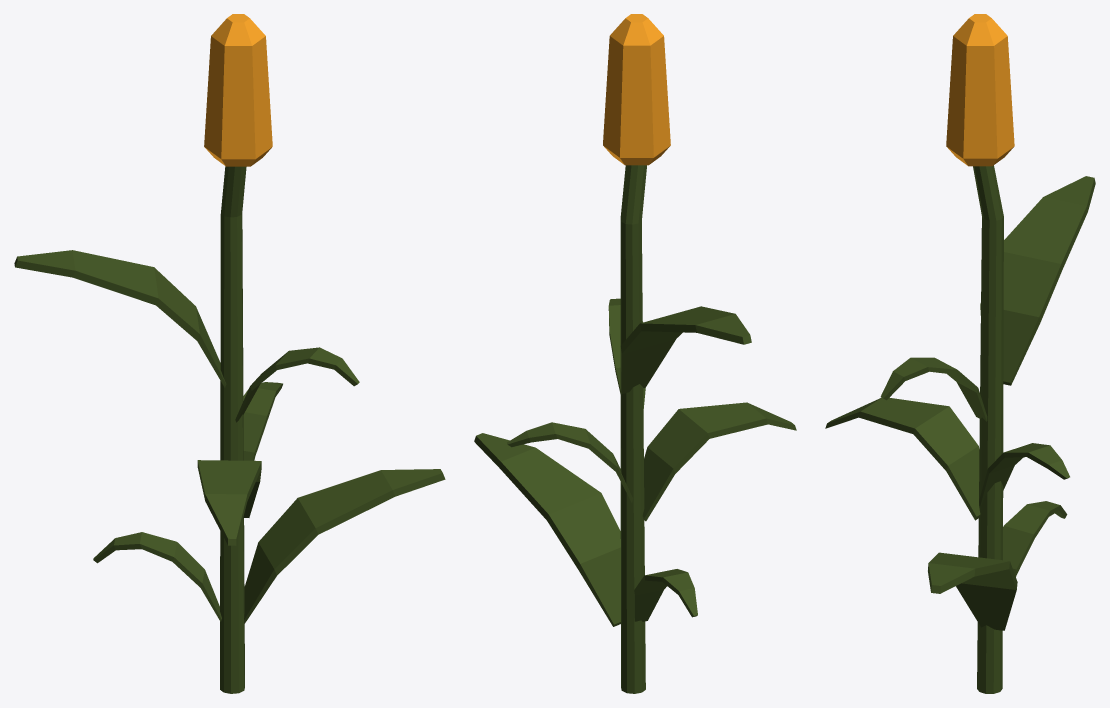
Rendered from Corn_1.fbx.
3 views of the same model, side by side, from view 1: azimuth 30°, elevation 25°; view 2: azimuth 150°, elevation 25°; view 3: azimuth 270°, elevation 25° (orthographic).
Parts seen in each view (by area): view 1: Corn_1; view 2: Corn_1; view 3: Corn_1.
Boxes of the visible parts, x1=… form: Corn_1: x1=14, y1=14, x2=445, y2=693; Corn_1: x1=474, y1=14, x2=796, y2=693; Corn_1: x1=825, y1=14, x2=1095, y2=693.
Bounding box in the file's own units: 104 × 189 × 69.04.
